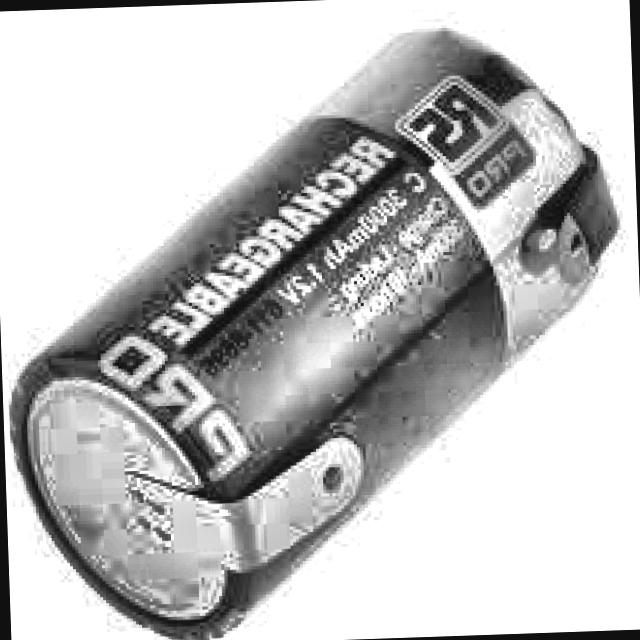Battery: (8, 32, 604, 634)
